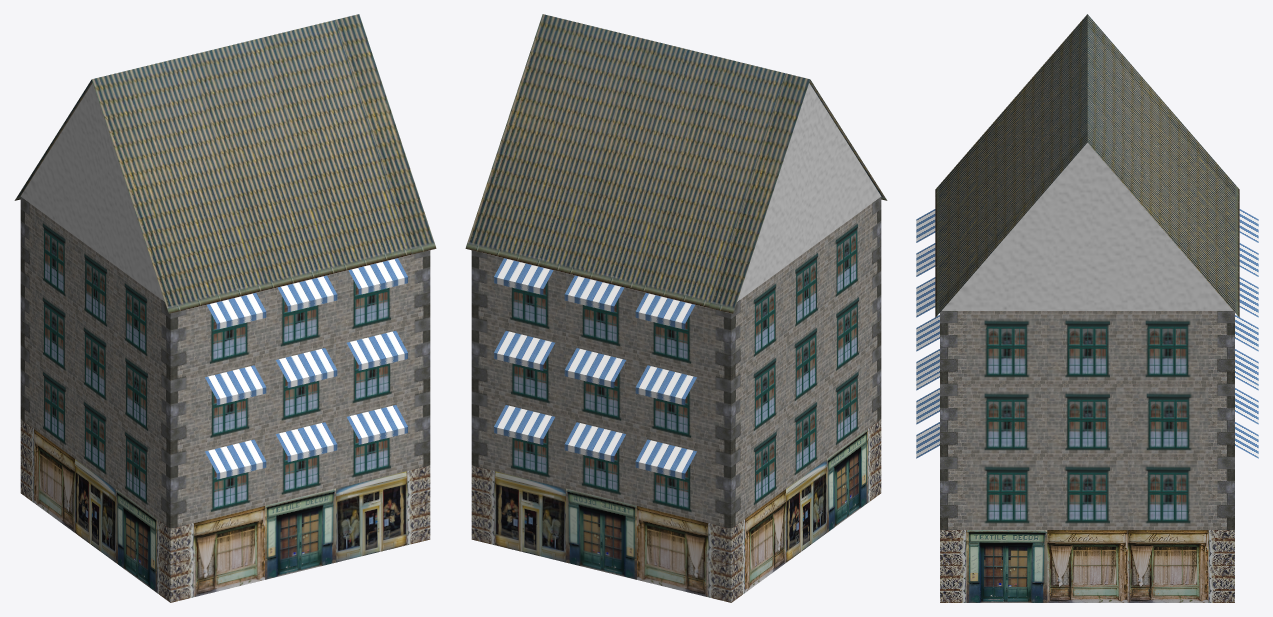
Rendered from House_007.dae.
3 renders of one model, left to right at view 1: azimuth 30°, elevation 25°; view 2: azimuth 150°, elevation 25°; view 3: azimuth 270°, elevation 25°, orthographic.
Visible parts, largest first — view 1: House_007; view 2: House_007; view 3: House_007.
Boxes of the visible parts, box(x1,y1,x2,y2) form: House_007: box(14, 14, 436, 602); House_007: box(465, 14, 887, 602); House_007: box(916, 14, 1258, 602).
Size of the model in its own units: 90.64 by 102 by 152.
